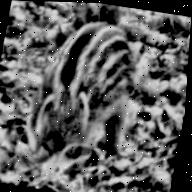boar: (5, 1, 148, 179)
